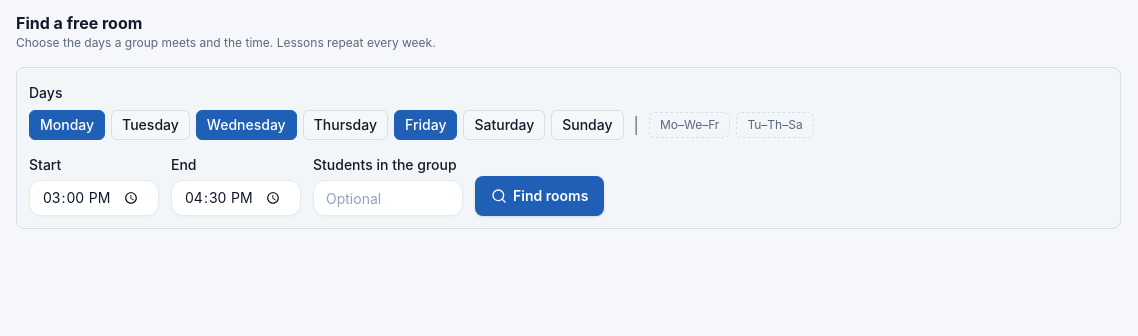
finding a free room › shows why a search failed, and the empty case
Click the button "Find rooms": [540, 196] box [475,176,604,216]
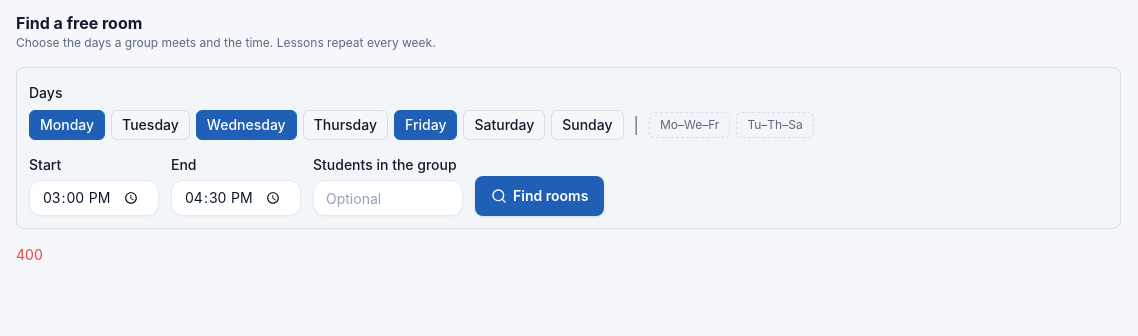
Expected: the message "400" is shown, [16,246,43,263]
Click the button "Find rooms": [540, 196] box [475,176,604,216]
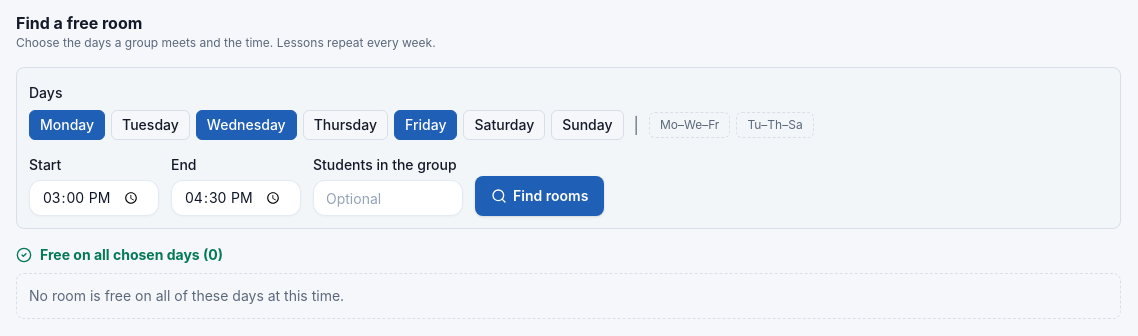
Expected: the text "No room is free on all of these days at this time." is shown, [16,273,1121,319]
